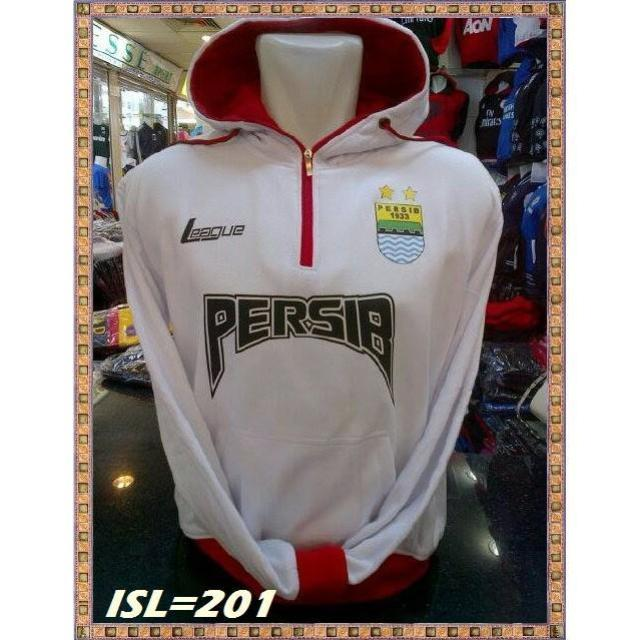Tshirt: (115, 19, 505, 599)
